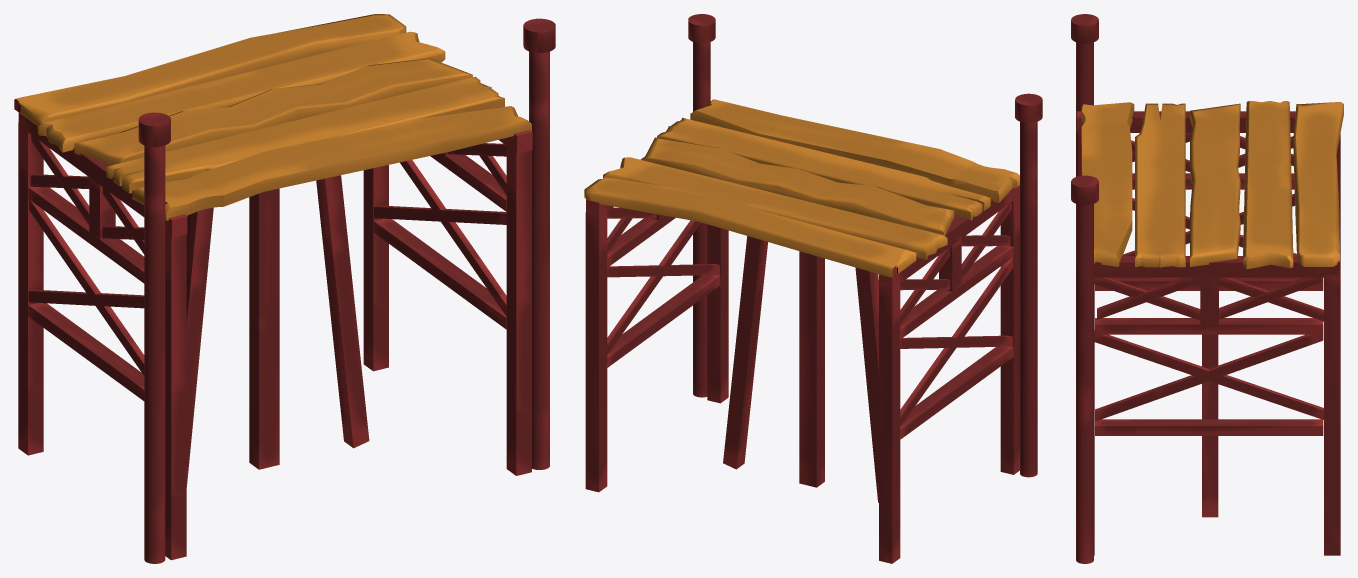
File: Env_Harbor_Prop_Pier_01.fbx
3 renders of one model, left to right at view 1: azimuth 30°, elevation 25°; view 2: azimuth 150°, elevation 25°; view 3: azimuth 270°, elevation 25°, orthographic. The views are drawn at different scales.
Visible parts, largest first — view 1: Env_Harbor_Prop_Pier_01:polySurface1; view 2: Env_Harbor_Prop_Pier_01:polySurface1; view 3: Env_Harbor_Prop_Pier_01:polySurface1.
Boxes of the visible parts, x1,y1,x2,y2 form: Env_Harbor_Prop_Pier_01:polySurface1: [14, 14, 555, 563]; Env_Harbor_Prop_Pier_01:polySurface1: [584, 14, 1042, 563]; Env_Harbor_Prop_Pier_01:polySurface1: [1071, 14, 1343, 563].
Size of the model in its own units: 2192 by 2251 by 1458.
